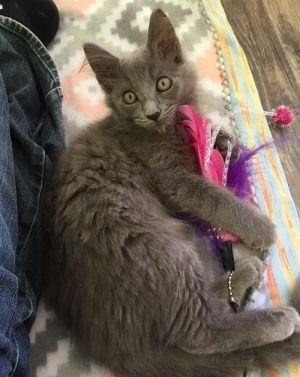rblue: (76, 6, 198, 143)
